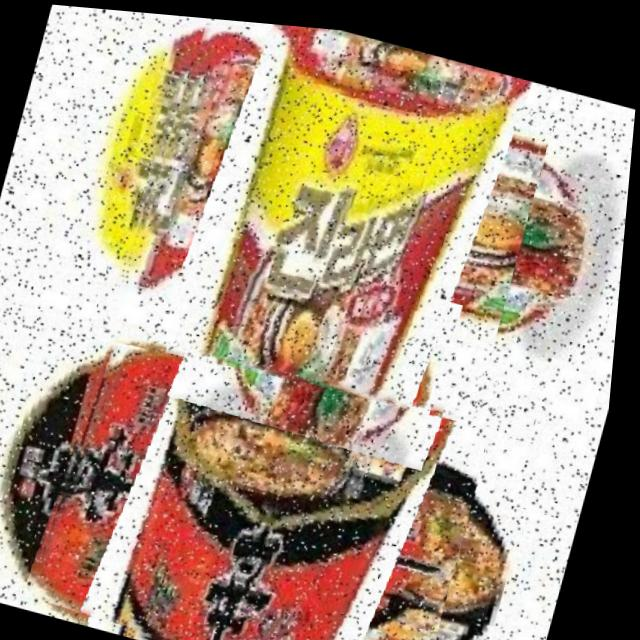Miscellaneous: (103, 9, 566, 430), (32, 270, 514, 640)
